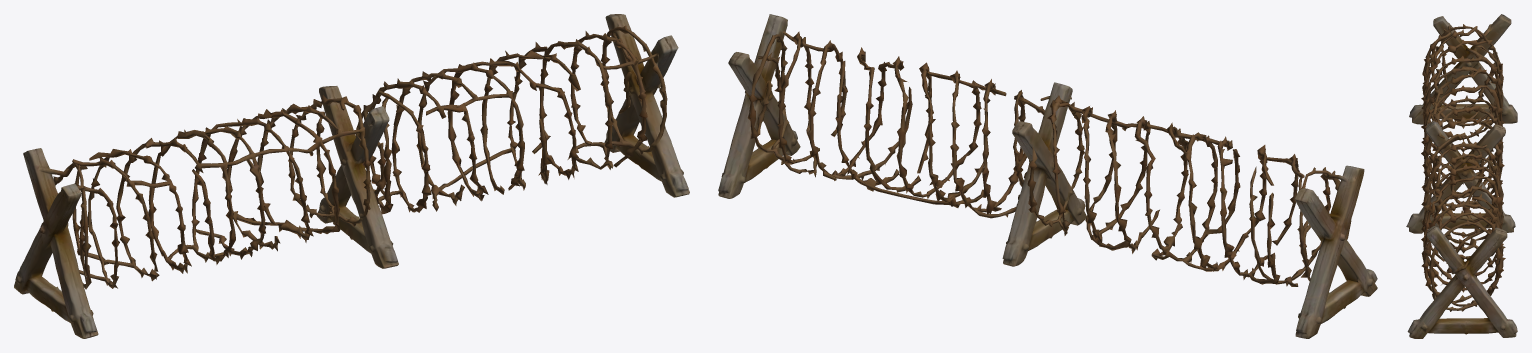
File: prop_wire.glb
3 renders of one model, left to right at view 1: azimuth 30°, elevation 25°; view 2: azimuth 150°, elevation 25°; view 3: azimuth 270°, elevation 25°, orthographic. The views are drawn at different scales.
Parts seen in each view (by area): view 1: tripo_node_ce5b9b53-519c-417d-bfba-44ec0d8401f1; view 2: tripo_node_ce5b9b53-519c-417d-bfba-44ec0d8401f1; view 3: tripo_node_ce5b9b53-519c-417d-bfba-44ec0d8401f1.
Part boxes in pixels (x1,y1,x2,y2): tripo_node_ce5b9b53-519c-417d-bfba-44ec0d8401f1: (14,14,689,338); tripo_node_ce5b9b53-519c-417d-bfba-44ec0d8401f1: (718,14,1377,338); tripo_node_ce5b9b53-519c-417d-bfba-44ec0d8401f1: (1406,14,1517,338).
Size of the model in its own units: 1 by 0.2339 by 0.212.
Materials: 1 (1 with a texture image).
